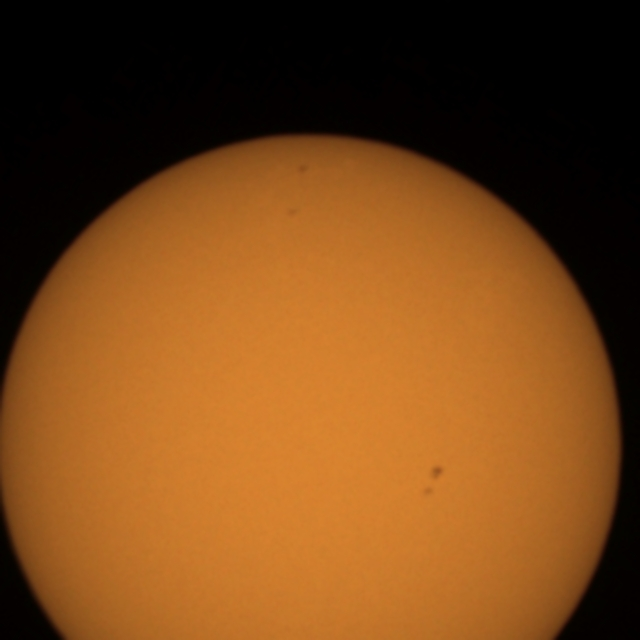sunspot: (420, 464, 446, 500), (284, 205, 301, 221), (295, 161, 311, 177)
